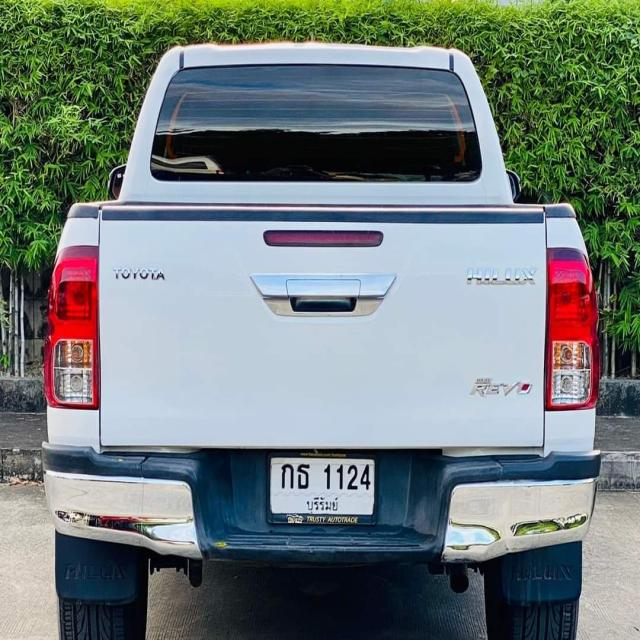license_plate: (265, 450, 382, 526)
